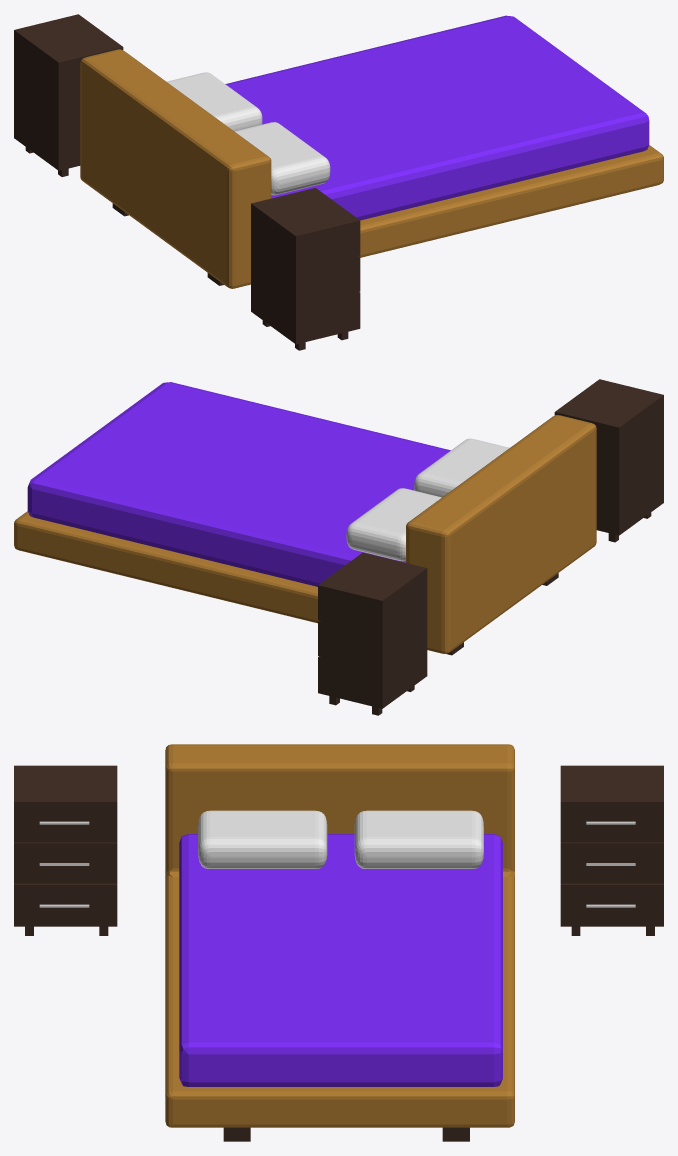
The model's file is Bedroom.gltf.
3 views of the same model, one above another, from view 1: azimuth 30°, elevation 25°; view 2: azimuth 150°, elevation 25°; view 3: azimuth 270°, elevation 25° (orthographic). The views are drawn at different scales.
Visible parts, largest first — view 1: node-0; view 2: node-0; view 3: node-0.
Part boxes in pixels (<box>): node-0: <box>14,14,663,350</box>; node-0: <box>14,379,663,715</box>; node-0: <box>14,744,663,1141</box>.
Size of the model in its own units: 112913 by 34629 by 126399.
